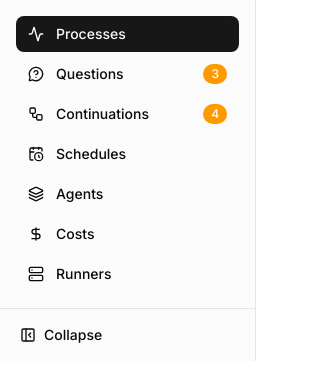
Sidebar › collapsible › keeps both badges visible on the icon when collapsed
What coordinates should you click on to do the following:
click the button with aria-label "Collapse sidebar"
I would click on:
 (128, 335)
Its box is [8,317,247,353].
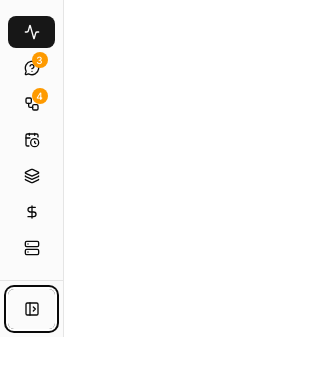
Result: the link named "Questions, 3 open questions waiting for an answer" reads "3" at [24,52,48,76]
Result: the link named "Continuations, 4 pending continuations waiting to fire" reads "4" at [24,88,48,112]
